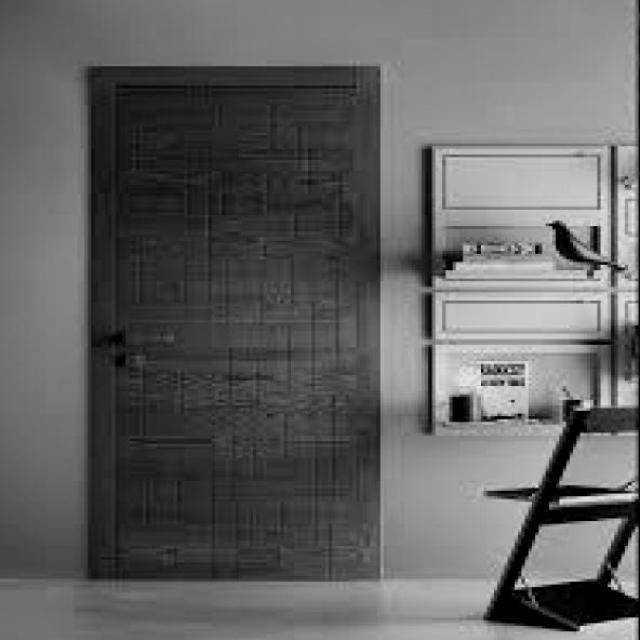door: (87, 64, 382, 582)
